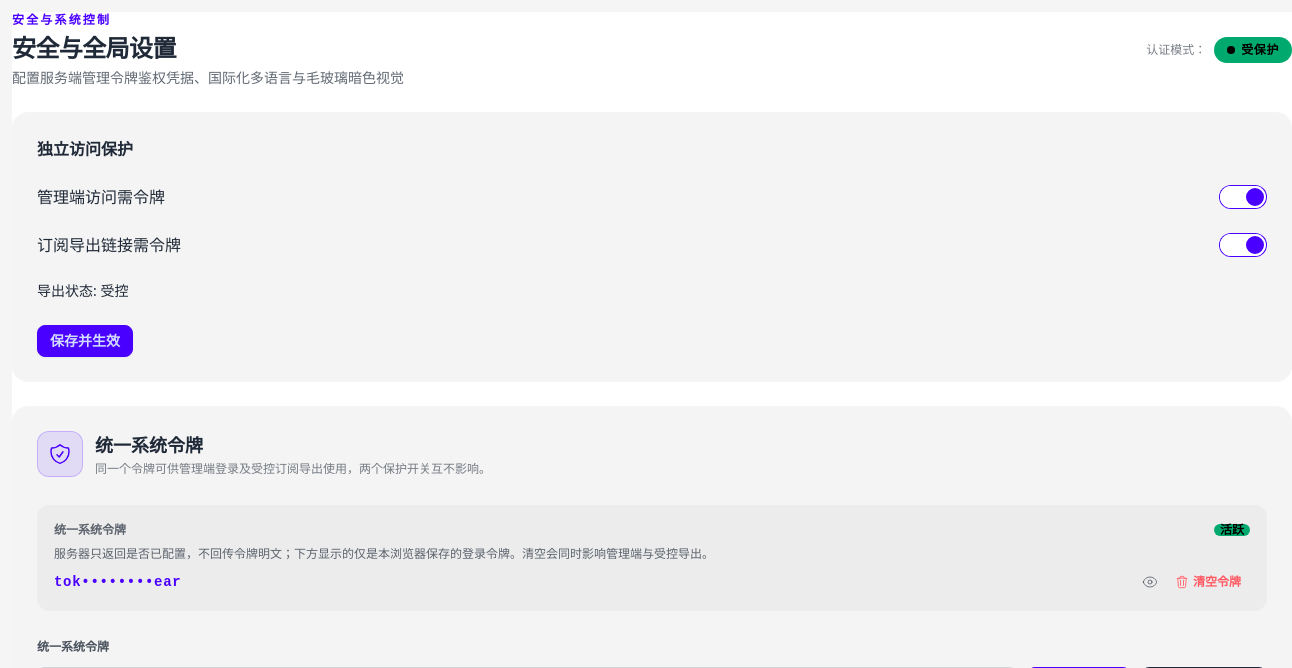
Test case: SettingsView Component › clears stored token from localStorage, updates API client and pushes info toast
Click the button with test id "clear-token-btn" at coordinates (1208, 582), box x1=1166 y1=570 x2=1250 y2=594
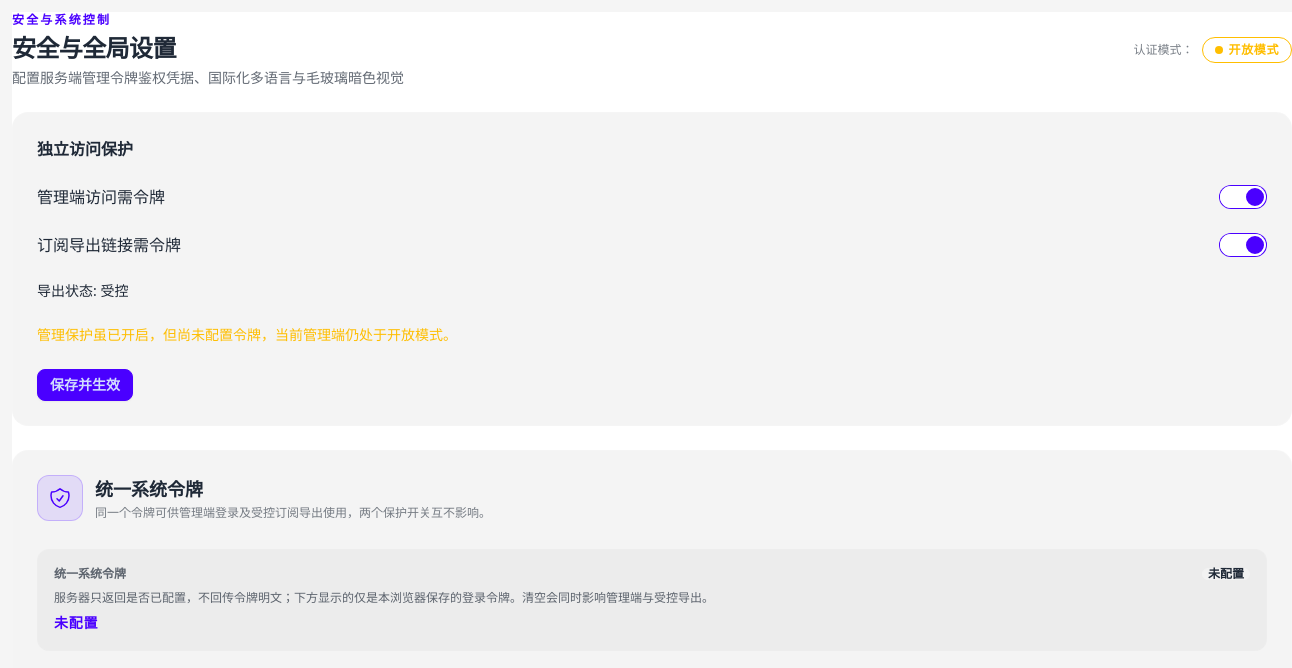
expect the 1st text "未配置" is shown: met, box x1=1202 y1=568 x2=1250 y2=580
